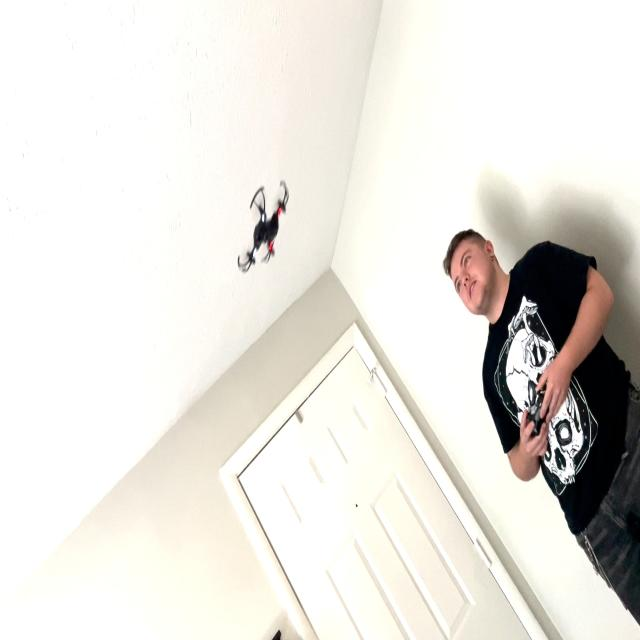drone: (232, 159, 294, 285)
